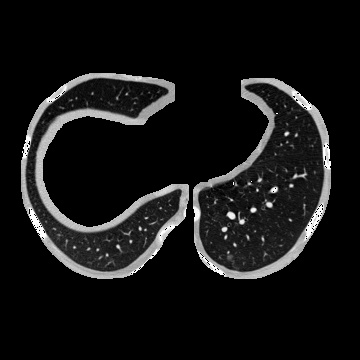PN: (227, 254, 233, 260)
